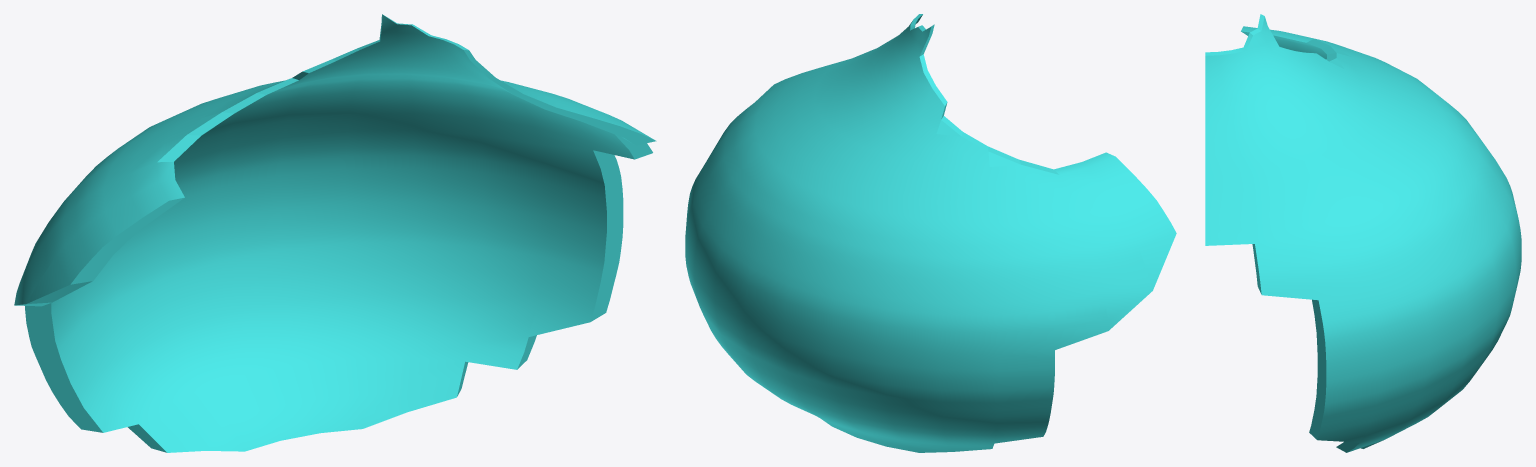
File: VaseBroken1.fbx
3 renders of one model, left to right at view 1: azimuth 30°, elevation 25°; view 2: azimuth 150°, elevation 25°; view 3: azimuth 270°, elevation 25°, orthographic. The views are drawn at different scales.
Visible parts, largest first — view 1: splinterMiddle1; view 2: splinterMiddle1; view 3: splinterMiddle1.
Boxes of the visible parts, box(x1,y1,x2,y2) form: splinterMiddle1: box(14, 14, 656, 452); splinterMiddle1: box(685, 14, 1176, 452); splinterMiddle1: box(1205, 14, 1521, 452).
Bounding box in the file's own units: 34.68 × 26.42 × 19.04.
